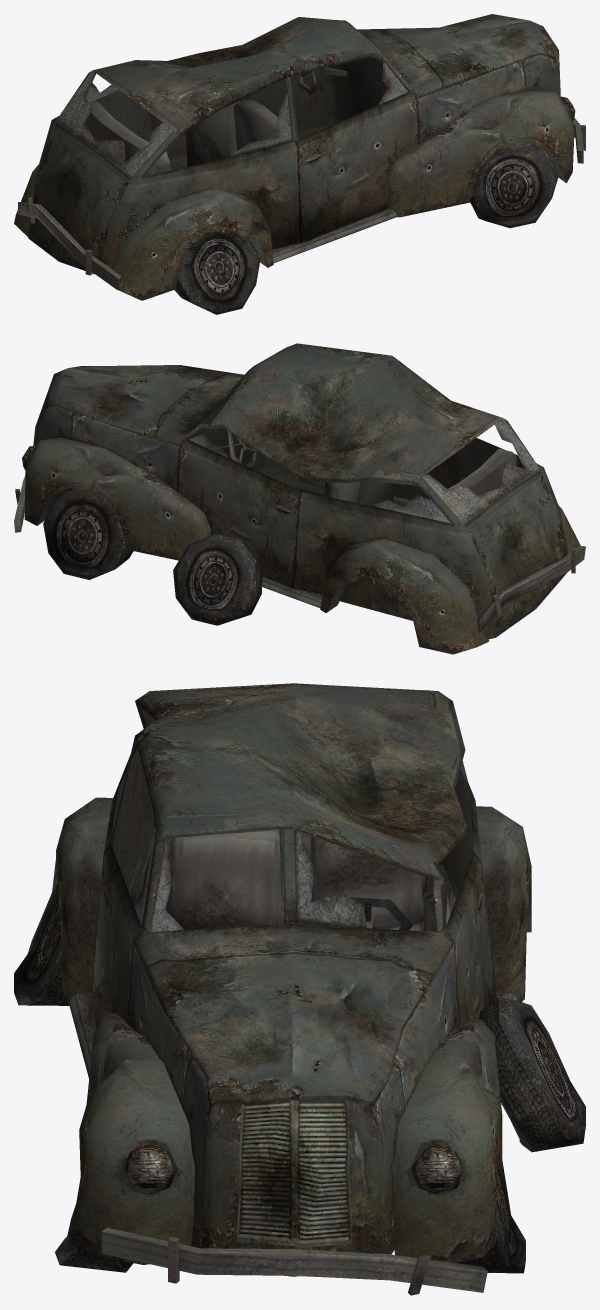
Rendered from car_civilian_destroyed__with_bullet_holes.glb.
3 renders of one model, top to bottom at view 1: azimuth 30°, elevation 25°; view 2: azimuth 150°, elevation 25°; view 3: azimuth 270°, elevation 25°, orthographic. The views are drawn at different scales.
Parts seen in each view (by area): view 1: Object_2; view 2: Object_2; view 3: Object_2.
Boxes of the visible parts, <box> form: Object_2: <box>14,14,585,314</box>; Object_2: <box>14,343,585,654</box>; Object_2: <box>14,683,585,1295</box>.
Bounding box in the file's own units: 462 × 171 × 252.
Materials: 1 (1 with a texture image).
